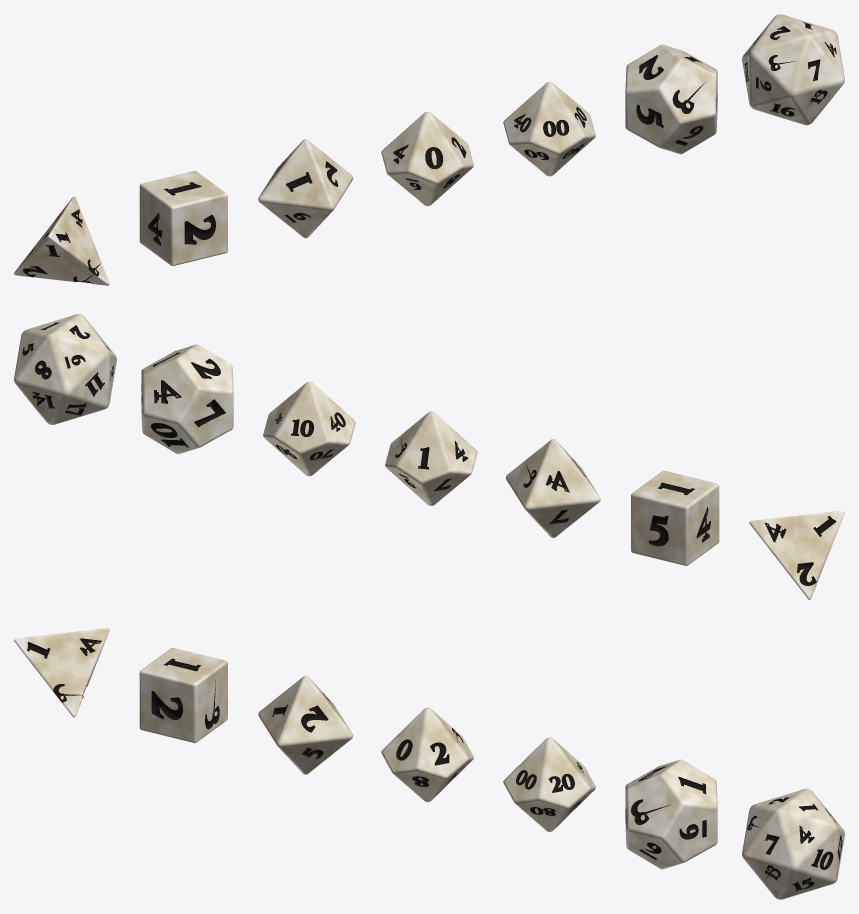
3 renders of one model, top to bottom at view 1: azimuth 30°, elevation 25°; view 2: azimuth 150°, elevation 25°; view 3: azimuth 330°, elevation 25°, orthographic.
Parts seen in each view (by area): view 1: d20, d12, d6, d100, d10, d8, d4; view 2: d20, d12, d6, d100, d10, d8, d4; view 3: d20, d12, d6, d8, d10, d100, d4.
Boxes of the visible parts, x1,y1,x2,y2 form: d20: [742, 14, 844, 125]; d12: [625, 44, 717, 154]; d6: [139, 171, 227, 266]; d100: [503, 82, 595, 176]; d10: [381, 111, 473, 206]; d8: [258, 139, 353, 238]; d4: [14, 196, 109, 285]; d20: [14, 314, 116, 424]; d12: [141, 344, 233, 453]; d6: [631, 470, 719, 565]; d100: [263, 382, 355, 476]; d10: [385, 411, 477, 505]; d8: [505, 439, 600, 537]; d4: [749, 510, 844, 599]; d20: [742, 788, 844, 899]; d12: [625, 759, 717, 869]; d6: [139, 647, 227, 742]; d8: [258, 675, 353, 774]; d10: [381, 707, 473, 802]; d100: [503, 737, 595, 831]; d4: [14, 628, 109, 717].
Size of the model in its own units: 21.14 by 2.47 by 2.47.
Materials: 14 (7 with a texture image).
